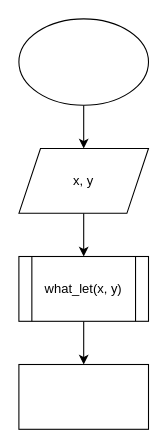
This 167x448 diagram has some shape labels left out. Each missing label, with the box of its shape:
print(letter_1, letter_2): (18, 363, 148, 429)
Начало: (18, 18, 148, 105)
